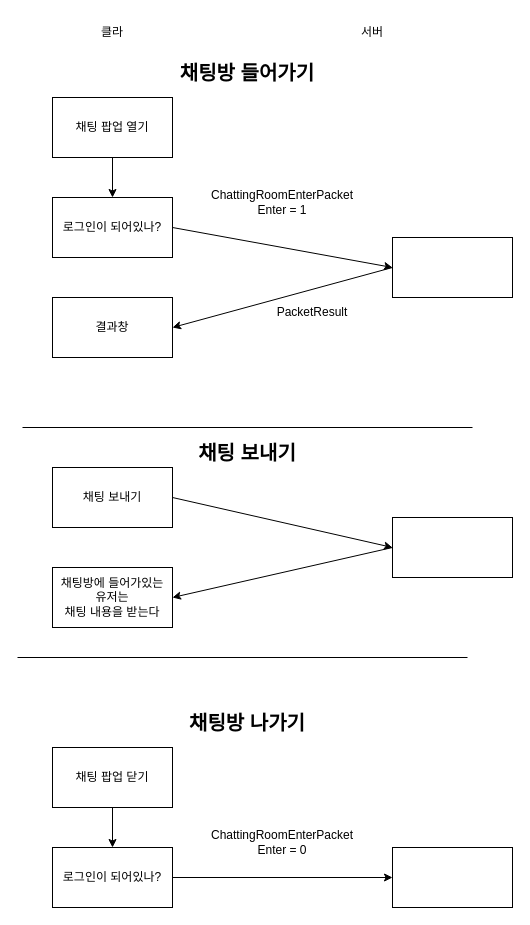
The diagram is 530 pixels wide and 925 high, and some of its shapes have lost their labels. Each missing label, with the centre of its shape:
채팅리스트에 있는 모든 원소들한테 채팅 내용을 보낸다: point (452, 547)
채팅리스트에 채팅오브젝트(세션정보들고있음) 삭제: point (452, 877)
채팅리스트에 채팅오브젝트(세션정보들고있음) 추가: point (452, 267)
